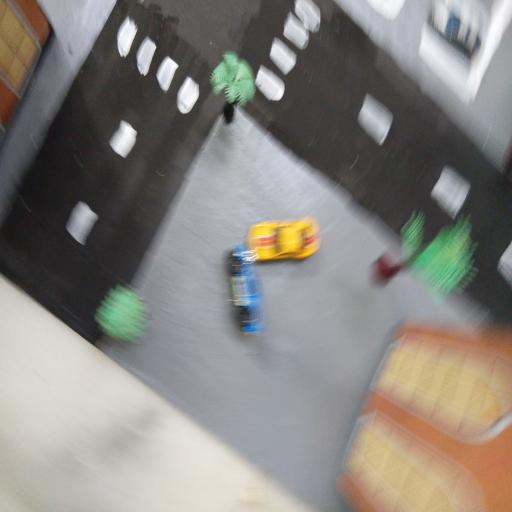car crash: (226, 216, 322, 336), (227, 248, 263, 337)
